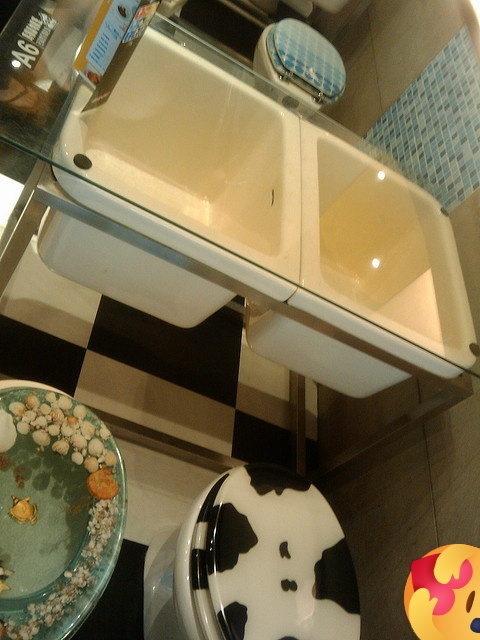care: (404, 544, 480, 640)
